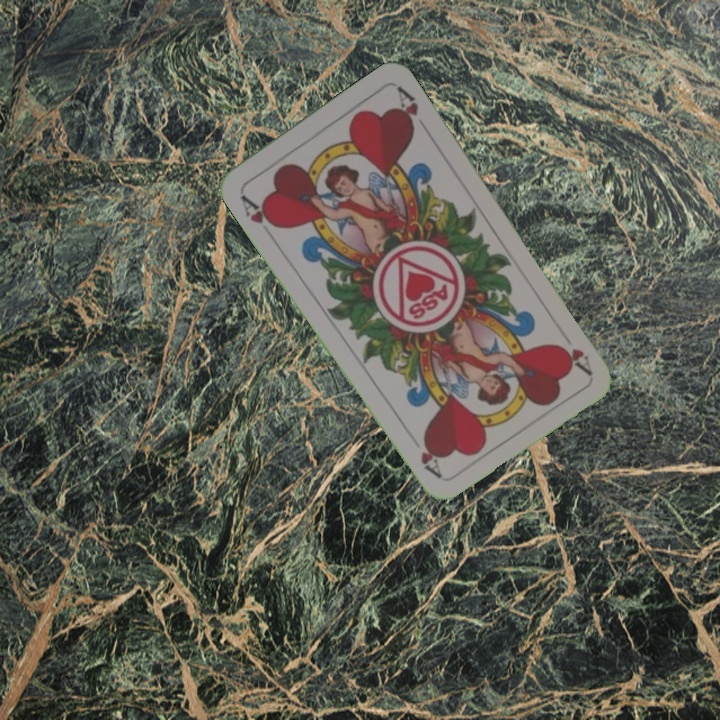HA: (236, 190, 282, 231), (553, 340, 594, 377)
